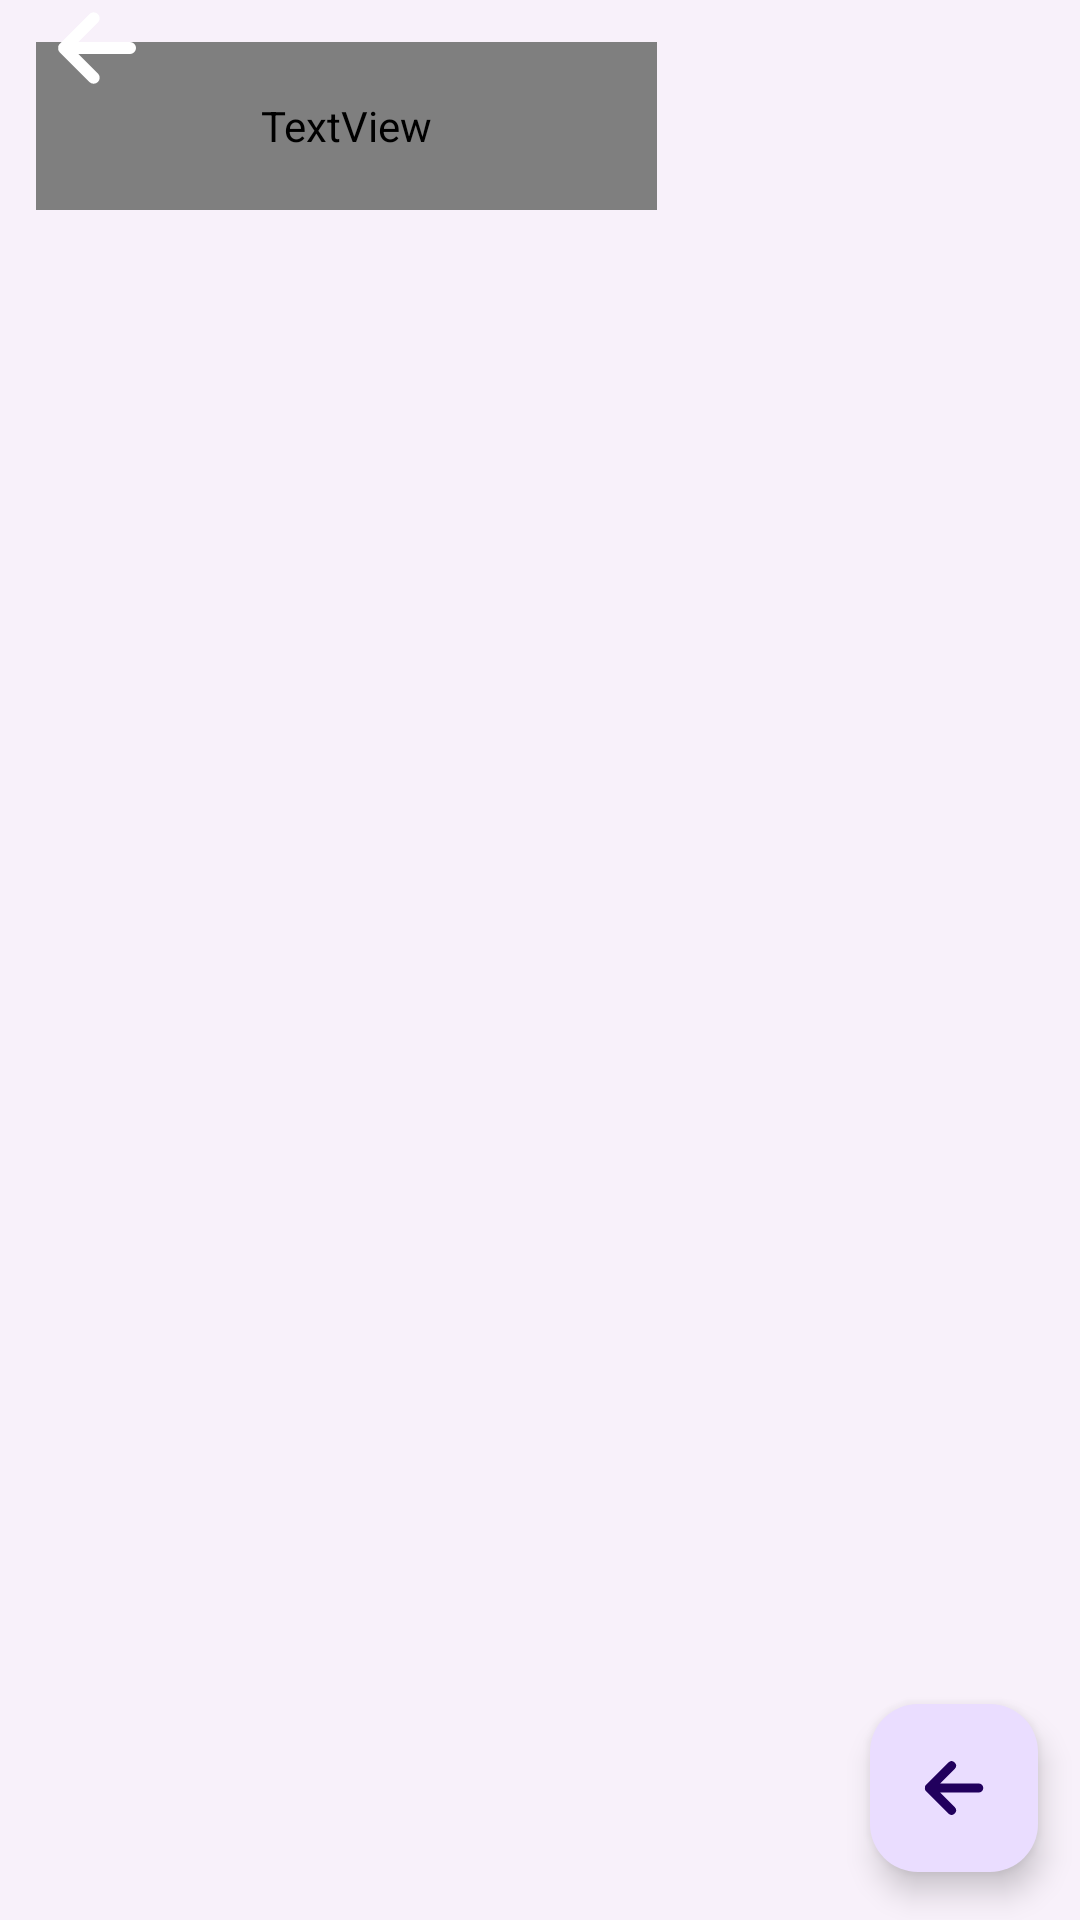

Screen size 1080px×1920px. Icon name, then its box in pixels as (x1, y1, x2, y2):
backdirectionicon: (49, 0, 145, 84), (870, 1704, 1038, 1872)
